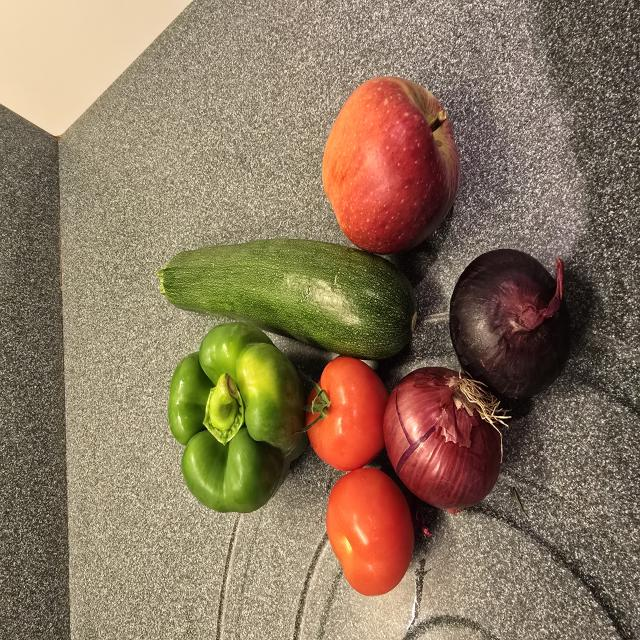Apple: (322, 77, 460, 254)
Bell Pepper: (168, 323, 307, 513)
Courgette: (157, 238, 417, 359)
Onion: (384, 367, 509, 512), (449, 249, 570, 397)
Tomato: (326, 467, 414, 596), (306, 357, 388, 470)
